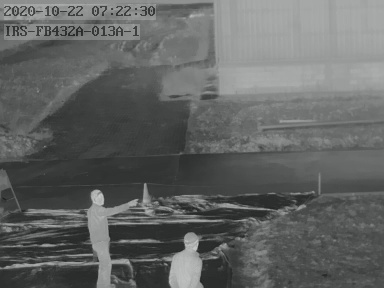person: (80, 191, 124, 288), (169, 232, 204, 288)
